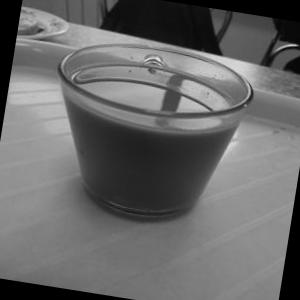coffee: (28, 28, 246, 239)
